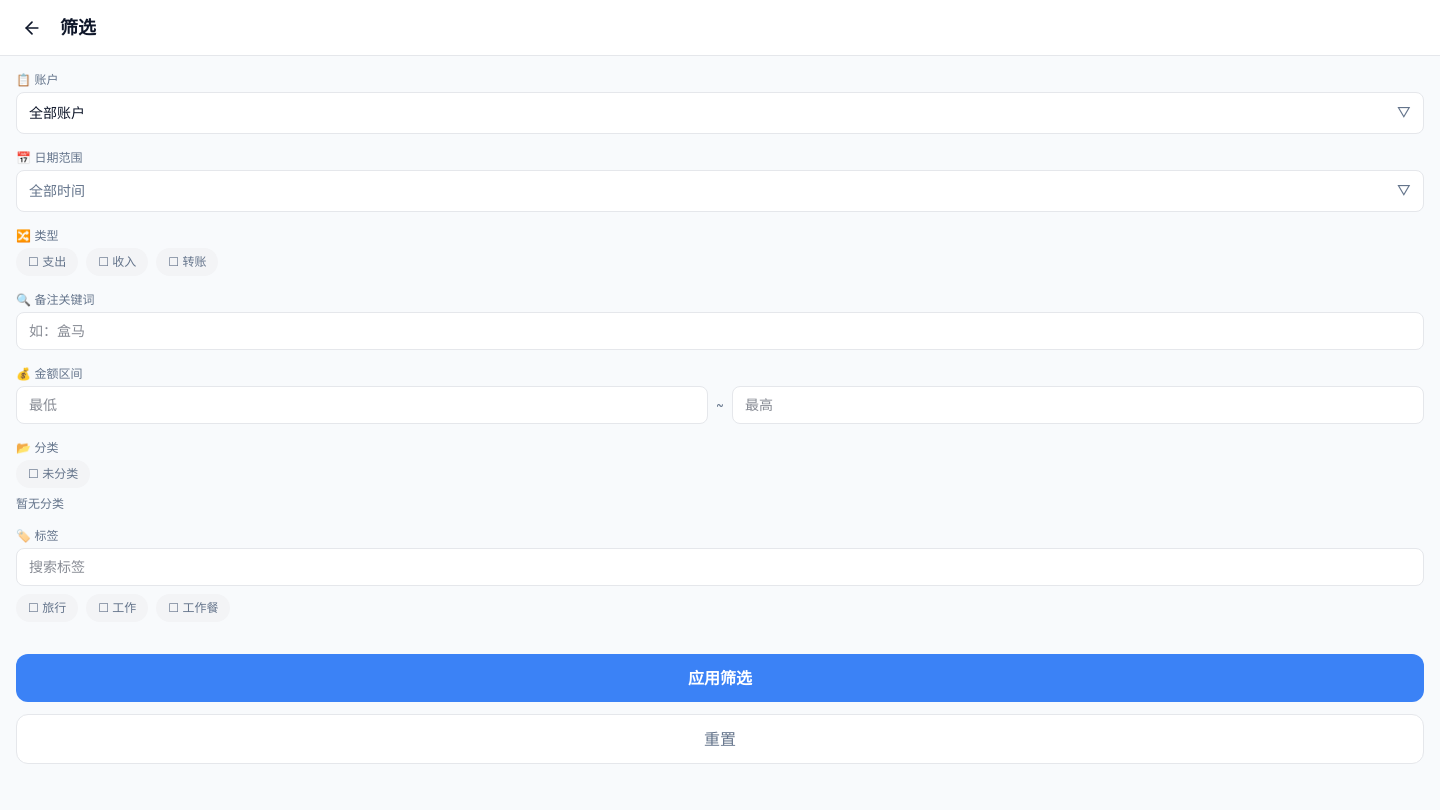
Test case: FilterPage 标签搜索 › 关键词只保留命中的标签
Type "工作" into the field with test id "tag-search". click: (720, 567)
box: [16,548,1424,586]
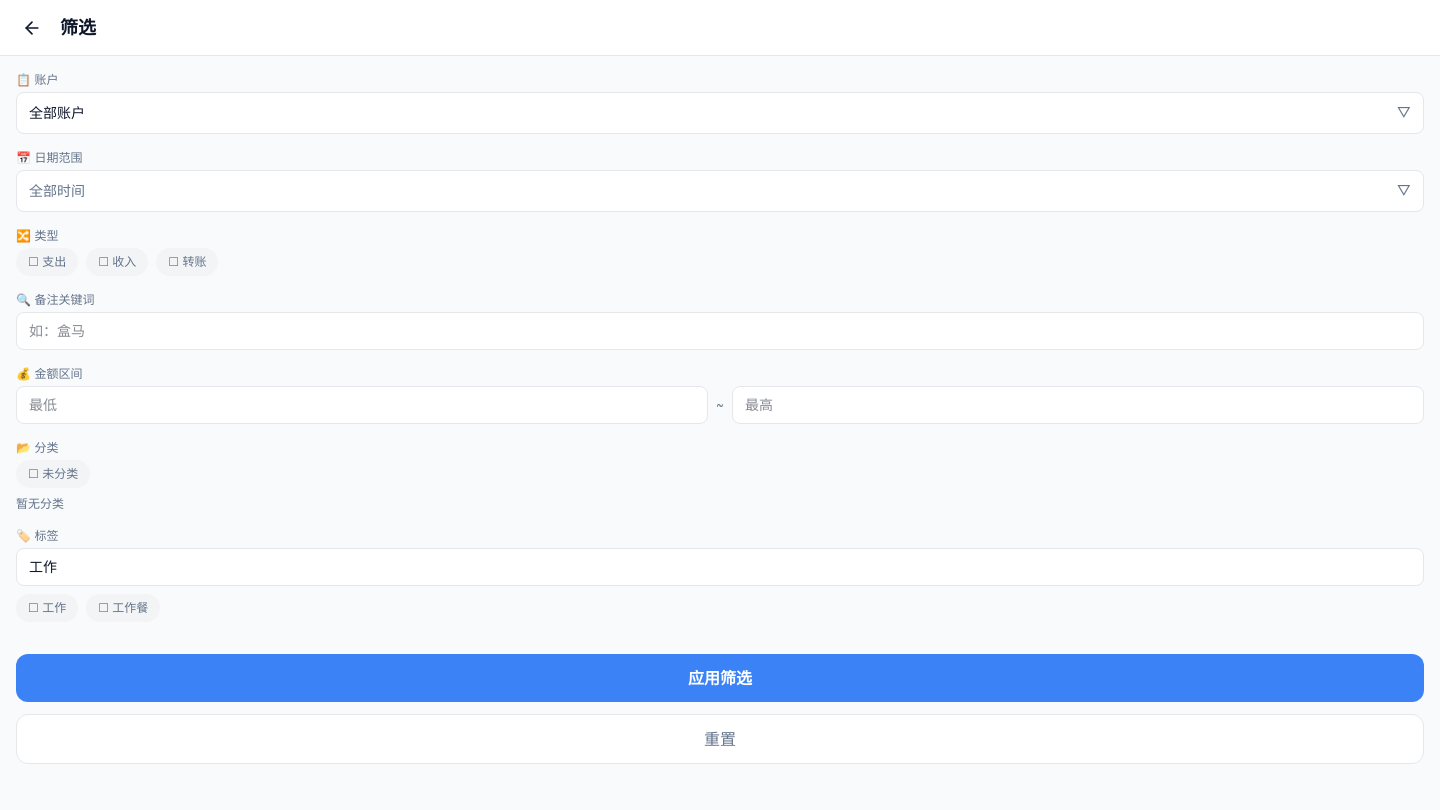
expect the text "旅行" is gone: met
